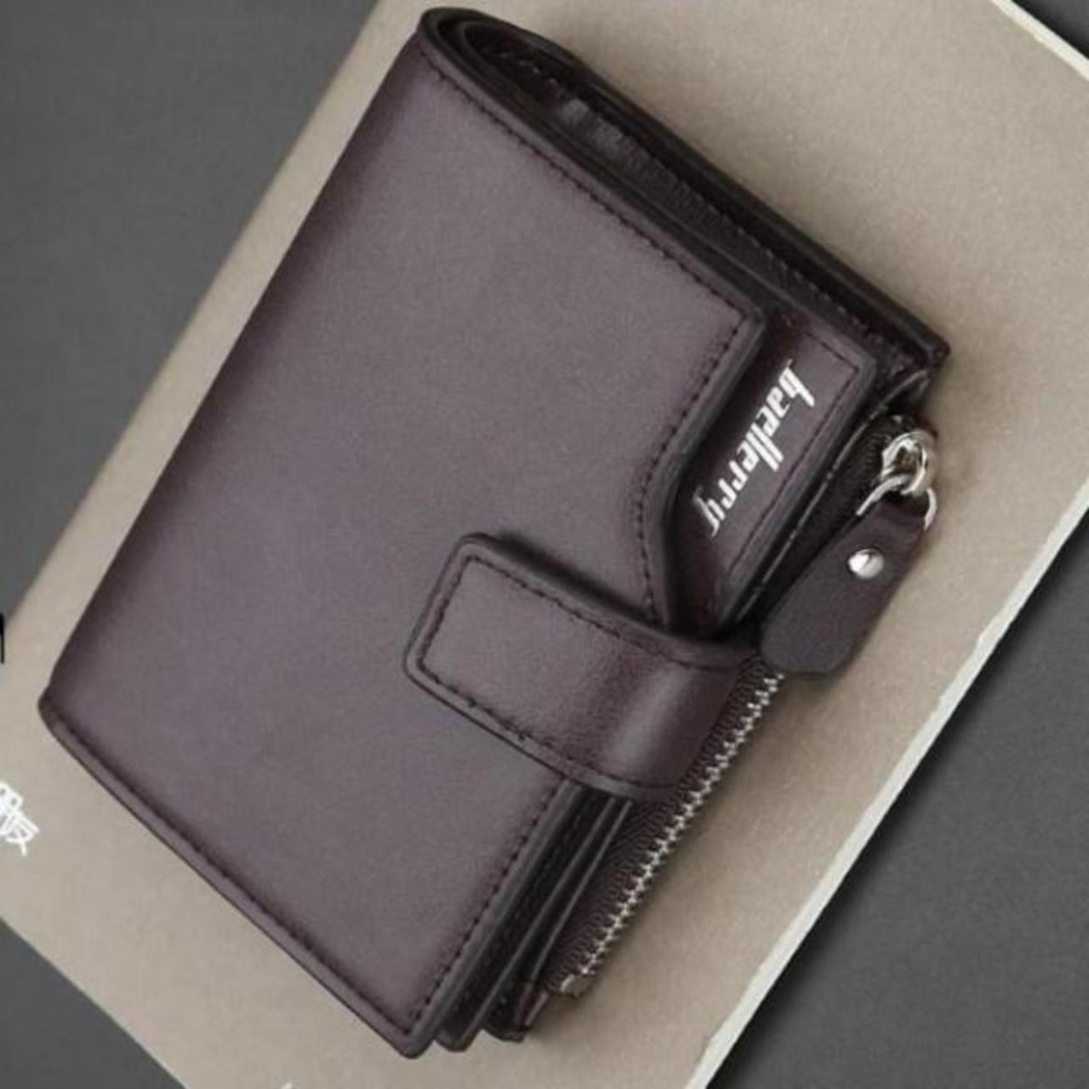wallet: (38, 4, 996, 1080)
